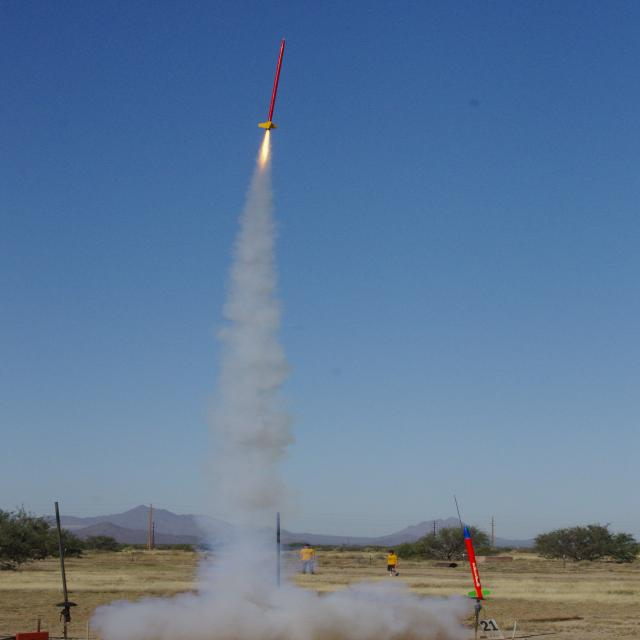Rocket: (257, 37, 287, 132), (462, 524, 491, 598)
